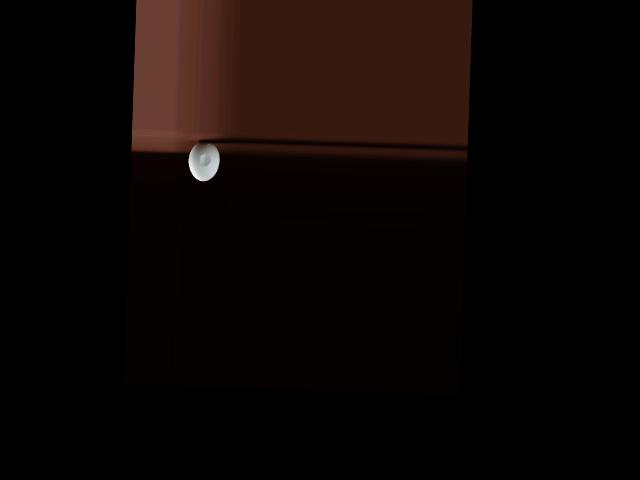egg: (188, 140, 220, 182)
